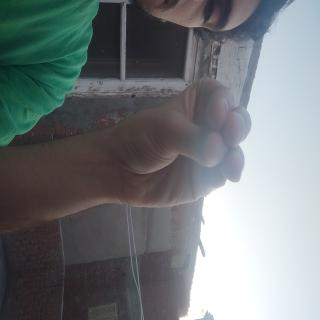HA: (54, 81, 162, 275)
